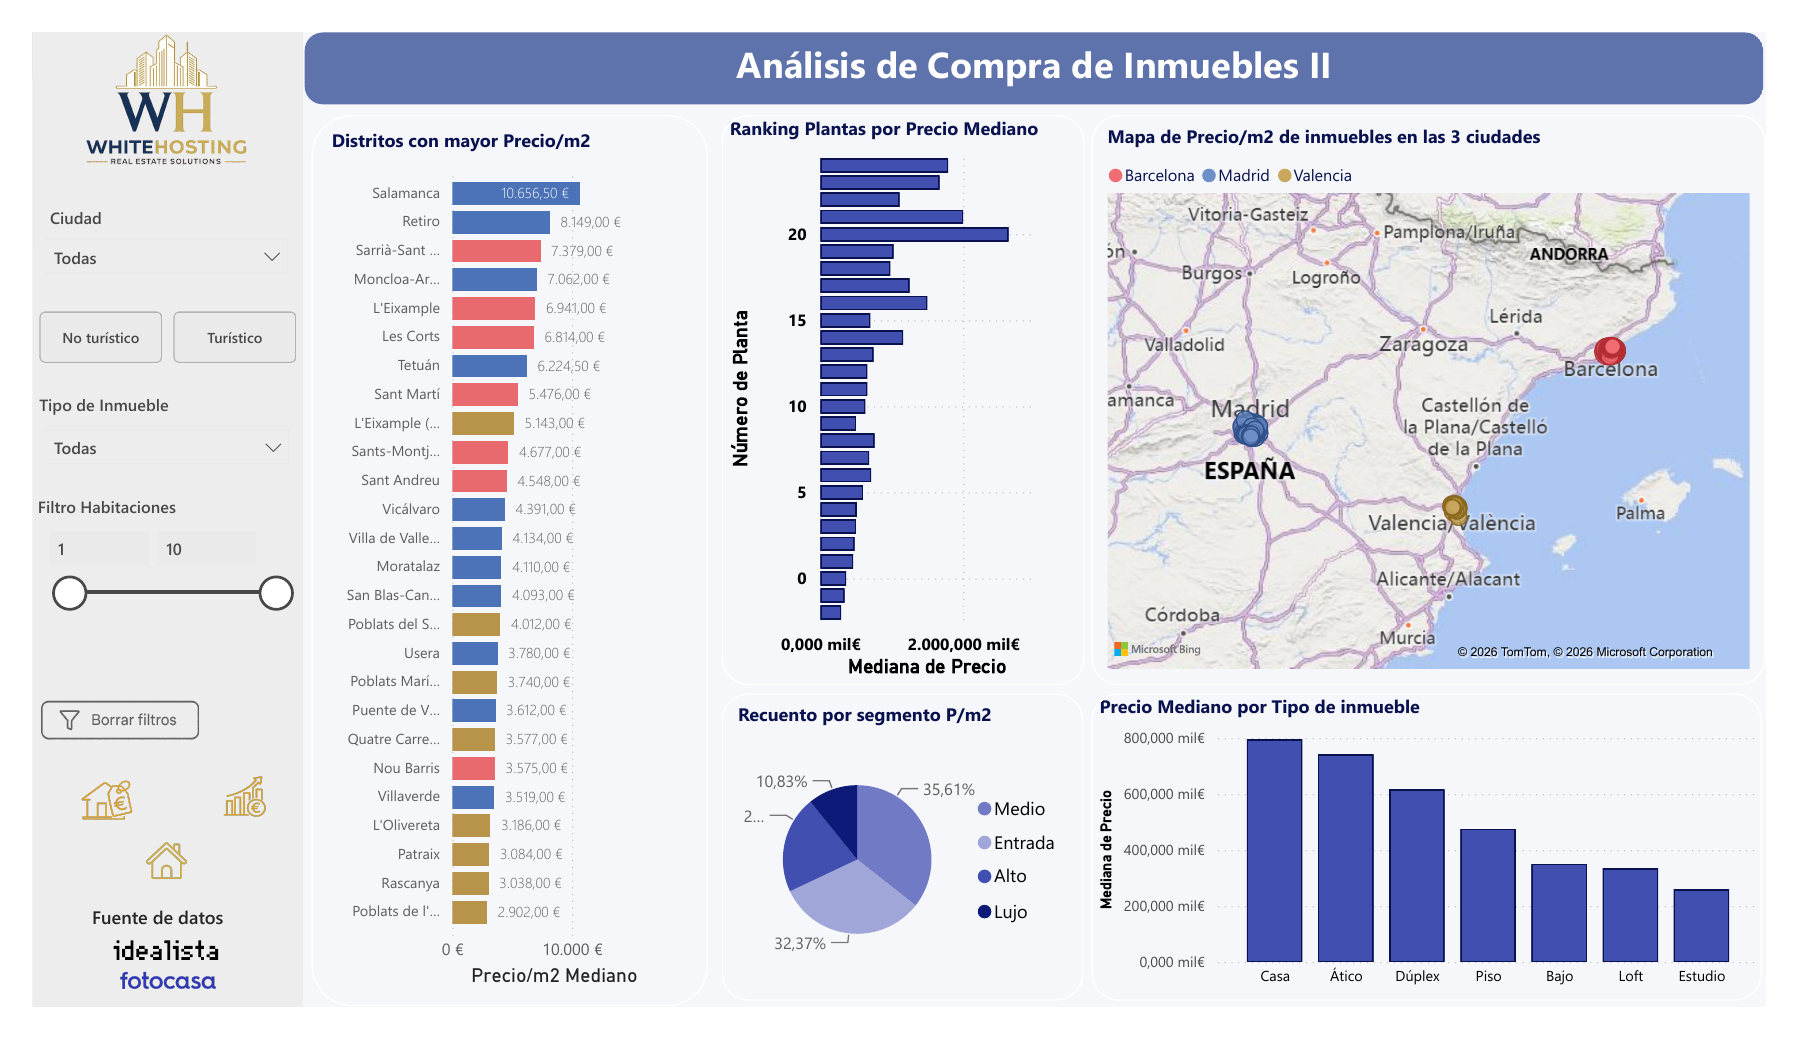

The page's visual inventory and layout, read from the dashboard file:
{"tool":"powerbi","page":{"name":"Compra II","canvas":[1280,720],"ordinal":4},"visuals":[{"type":"shape","box":[200.8,0,1077.4,52.7],"z":0},{"type":"shape","box":[0,0,200.5,719.7],"z":1000},{"type":"textbox","box":[39.1,640.5,114.5,29.1],"z":2000},{"type":"image","box":[40.5,667,116.8,21.5],"z":3000},{"type":"image","box":[32.6,680.7,132.5,38.5],"z":4000},{"type":"slicer","title":"Filtro Habitaciones","fields":{"Values":["datos_compra_inmuebles_listo.habitaciones"]},"box":[0,341.1,199.8,89.8],"z":5000},{"type":"slicer","title":"Tipo de Inmueble","fields":{"Values":["datos_compra_inmuebles_listo.tipo_inmueble"]},"box":[0,266.6,199.8,61.9],"z":6000},{"type":"image","box":[15.4,0,167.2,99.9],"z":11000},{"type":"slicer","fields":{"Values":["Ciudades.Ciudad"]},"box":[0,123.5,198.9,58.1],"z":12000},{"type":"image","box":[6.2,533.7,93.5,67.8],"z":13000},{"type":"image","box":[116.3,533.7,81,63],"z":14000},{"type":"advancedSlicerVisual","fields":{"Values":["tabla_barrios_oficial_turísticos_id_mejorado.Barrio Turístico (texto)"]},"box":[0,201.2,199.8,48],"z":15000},{"type":"textbox","box":[199.9,0,1080.1,52.7],"z":16000},{"type":"image","box":[50.9,566,96.3,95.4],"z":17000},{"type":"image","box":[6.3,482.1,117,51.2],"z":18000},{"type":"map","title":"Mapa de Precio/m2 de inmuebles en las 3 ciudades","fields":{"Y":["tabla_barrios_con_coordenadas.Latitud"],"X":["tabla_barrios_con_coordenadas.Longitud"],"Series":["tabla_barrios_oficial_turísticos_id_mejorado.ciudad"],"Size":["datos_compra_inmuebles_listo.Precio/m2 Mediano"]},"box":[781.9,61,498.3,421],"z":19000},{"type":"clusteredBarChart","title":"Distritos con mayor Precio/m2","fields":{"Category":["tabla_barrios_oficial_turísticos_id_mejorado.distrito_oficial"],"Y":["datos_compra_inmuebles_listo.Precio/m2 Mediano"]},"box":[205.6,61,293.6,658.1],"z":20000},{"type":"columnChart","title":"Precio Mediano por Tipo de inmueble","fields":{"Category":["datos_compra_inmuebles_listo.tipo_inmueble"],"Y":["datos_compra_inmuebles_listo.Precio Mediano"]},"box":[781.8,487.7,495.6,227.1],"z":21000},{"type":"clusteredBarChart","title":"Ranking Plantas por Precio Mediano","fields":{"Y":["datos_compra_inmuebles_listo.Precio Mediano"],"Category":["datos_compra_inmuebles_listo.num_planta"]},"box":[509,61,267.5,421],"z":22000},{"type":"pieChart","title":"Recuento por segmento P/m2","fields":{"Y":["datos_compra_inmuebles_listo.Recuento inmuebles"],"Category":["datos_compra_inmuebles_listo.segmento_precio_m2"]},"box":[508.9,487.7,267.5,227.1],"z":23000}]}

Visuals, with their boxes in screenshot pixels (x1, y1, x2, y2), scaled from the page's 1280x720 canvas onto the 1799x1040 screenshot:
shape: (left=282, top=0, right=1796, bottom=76)
shape: (left=0, top=0, right=282, bottom=1039)
textbox: (left=55, top=925, right=216, bottom=967)
image: (left=57, top=963, right=221, bottom=994)
image: (left=46, top=983, right=232, bottom=1039)
"Filtro Habitaciones" slicer: (left=0, top=493, right=281, bottom=622)
"Tipo de Inmueble" slicer: (left=0, top=385, right=281, bottom=474)
image: (left=22, top=0, right=257, bottom=144)
slicer - Ciudades.Ciudad: (left=0, top=178, right=280, bottom=262)
image: (left=9, top=771, right=140, bottom=869)
image: (left=163, top=771, right=277, bottom=862)
advancedSlicerVisual - tabla_barrios_oficial_turísticos_id_mejorado.Barrio Turístico (texto): (left=0, top=291, right=281, bottom=360)
textbox: (left=281, top=0, right=1798, bottom=76)
image: (left=72, top=818, right=207, bottom=955)
image: (left=9, top=696, right=173, bottom=770)
"Mapa de Precio/m2 de inmuebles en las 3 ciudades" map: (left=1099, top=88, right=1798, bottom=696)
"Distritos con mayor Precio/m2" clusteredBarChart: (left=289, top=88, right=702, bottom=1039)
"Precio Mediano por Tipo de inmueble" columnChart: (left=1099, top=704, right=1795, bottom=1032)
"Ranking Plantas por Precio Mediano" clusteredBarChart: (left=715, top=88, right=1091, bottom=696)
"Recuento por segmento P/m2" pieChart: (left=715, top=704, right=1091, bottom=1032)
